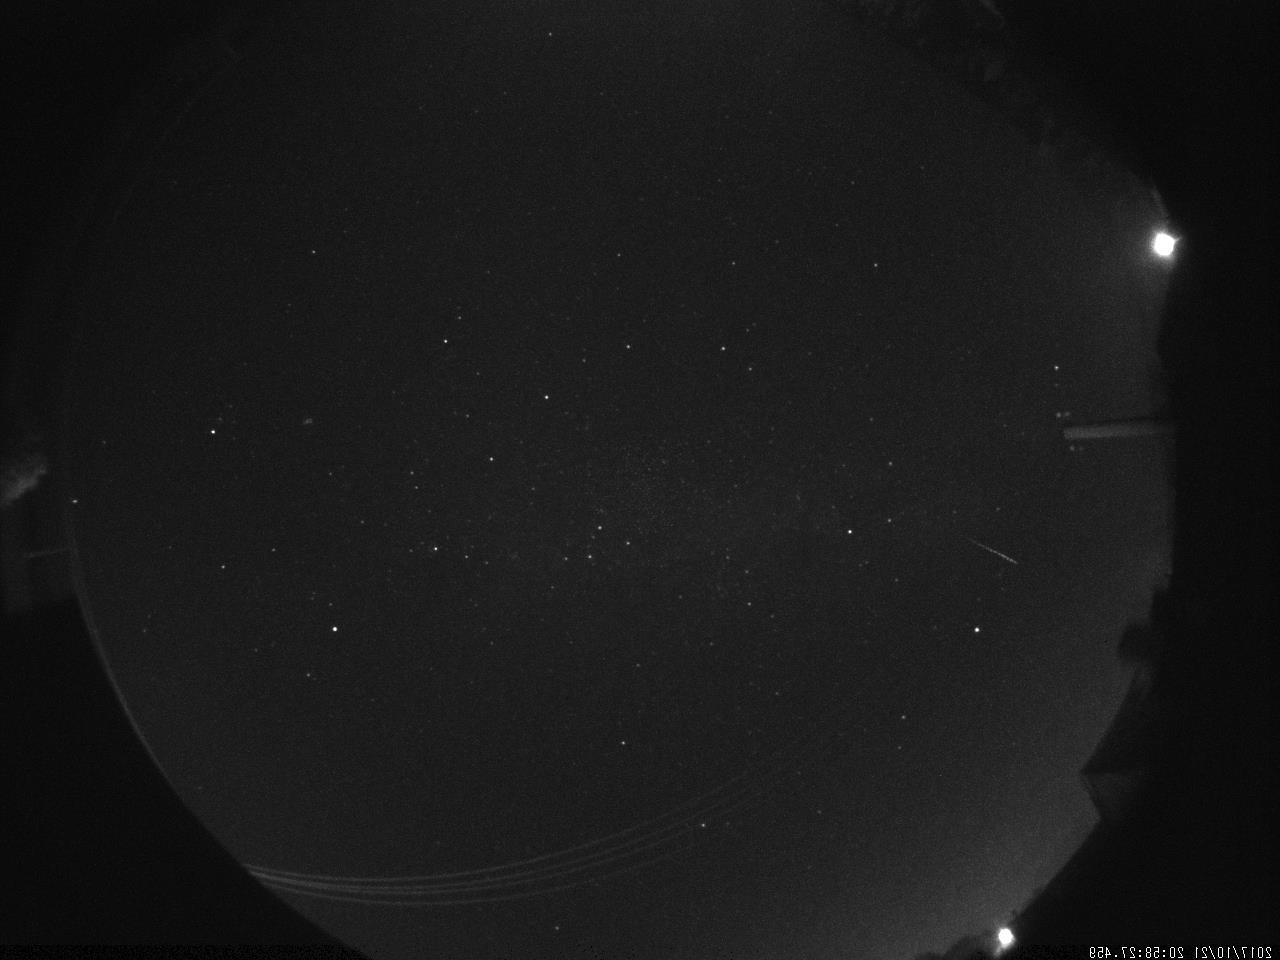meteor: (942, 524, 1028, 580)
